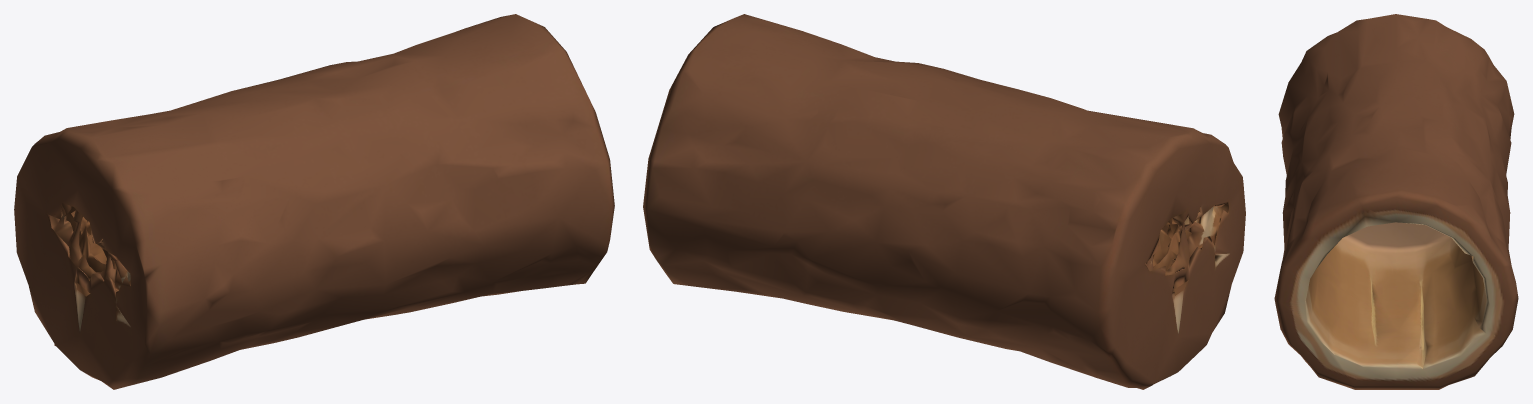
The model's file is log.glb.
The picture shows the model from 3 angles, left to right: view 1: azimuth 30°, elevation 25°; view 2: azimuth 150°, elevation 25°; view 3: azimuth 270°, elevation 25°; orthographic projection. The views are drawn at different scales.
Visible parts, largest first — view 1: tripo_node_d622afe0-f056-40c2-b876-c5a282eeb15e; view 2: tripo_node_d622afe0-f056-40c2-b876-c5a282eeb15e; view 3: tripo_node_d622afe0-f056-40c2-b876-c5a282eeb15e.
Boxes of the visible parts, <box> form: tripo_node_d622afe0-f056-40c2-b876-c5a282eeb15e: <box>14,14,614,389</box>; tripo_node_d622afe0-f056-40c2-b876-c5a282eeb15e: <box>643,14,1245,389</box>; tripo_node_d622afe0-f056-40c2-b876-c5a282eeb15e: <box>1274,14,1518,389</box>.
Size of the model in its own units: 1 by 0.4987 by 0.5487.
Materials: 1 (1 with a texture image).
